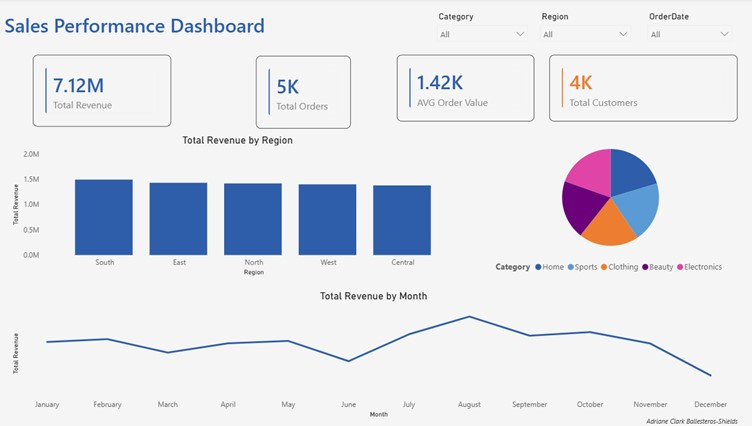

This screenshot's page, from the dashboard's own definition file:
{"tool":"powerbi","page":{"name":"Page 1","canvas":[1280,720],"ordinal":0},"visuals":[{"type":"cardVisual","fields":{"Data":["sales_data.Total Revenue"]},"box":[68.1,93.9,230.2,119.6],"z":0},{"type":"cardVisual","fields":{"Data":["sales_data.Total Orders"]},"box":[440.6,95.4,157.5,121.1],"z":1},{"type":"cardVisual","fields":{"Data":["sales_data.AVG Order Value"]},"box":[673.8,93.9,228.6,110.5],"z":2},{"type":"cardVisual","fields":{"Data":["sales_data.Total Customers"]},"box":[928.2,93.9,313.4,110.5],"z":3},{"type":"clusteredColumnChart","fields":{"Category":["sales_data.Region"],"Y":["sales_data.Total Revenue"]},"box":[30.3,225.6,758.6,240.8],"z":4},{"type":"pieChart","fields":{"Category":["sales_data.Category"],"Y":["sales_data.Total Revenue"]},"box":[817.7,225.6,424,240.8],"z":5},{"type":"lineChart","fields":{"Category":["sales_data.OrderDate.Variation.Date Hierarchy.Month"],"Y":["sales_data.Total Revenue"]},"box":[30.3,484.5,1211.4,218],"z":6},{"type":"textbox","box":[16.7,16.7,502.7,77.2],"z":8},{"type":"slicer","fields":{"Values":["sales_data.Region"]},"box":[902.5,16.7,171.1,77.2],"z":10},{"type":"slicer","fields":{"Values":["sales_data.Category"]},"box":[731.4,16.7,171.1,77.2],"z":11},{"type":"slicer","fields":{"Values":["sales_data.OrderDate"]},"box":[1081.1,16.7,160.5,77.2],"z":12},{"type":"textbox","box":[1084.8,687.9,172.3,29.2],"z":13}]}

Visuals, with their boxes in screenshot pixels (x1, y1, x2, y2), scaled from the page's 1280x720 canvas onto the 752x426 screenshot:
cardVisual - sales_data.Total Revenue: detection(40, 56, 175, 126)
cardVisual - sales_data.Total Orders: detection(259, 56, 351, 128)
cardVisual - sales_data.AVG Order Value: detection(396, 56, 530, 121)
cardVisual - sales_data.Total Customers: detection(545, 56, 729, 121)
clusteredColumnChart - sales_data.Region x sales_data.Total Revenue: detection(18, 133, 463, 276)
pieChart - sales_data.Category x sales_data.Total Revenue: detection(480, 133, 729, 276)
lineChart - sales_data.OrderDate.Variation.Date Hierarchy.Month x sales_data.Total Revenue: detection(18, 287, 729, 416)
textbox: detection(10, 10, 305, 56)
slicer - sales_data.Region: detection(530, 10, 631, 56)
slicer - sales_data.Category: detection(430, 10, 530, 56)
slicer - sales_data.OrderDate: detection(635, 10, 729, 56)
textbox: detection(637, 407, 739, 424)
